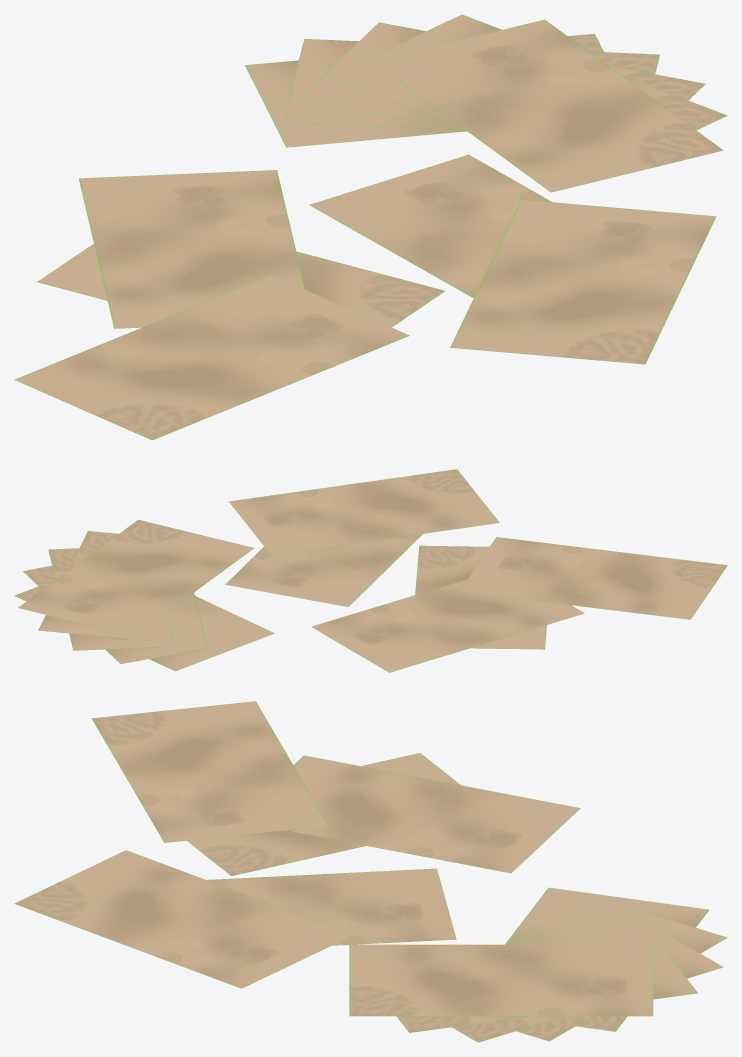
File: 3D_ENV_PAPER.FBX
The picture shows the model from 3 angles, top to bottom: view 1: azimuth 30°, elevation 25°; view 2: azimuth 150°, elevation 25°; view 3: azimuth 270°, elevation 25°; orthographic projection. The views are drawn at different scales.
Visible parts, largest first — view 1: paper; view 2: paper; view 3: paper.
Part boxes in pixels (x1,y1,x2,y2): paper: (14, 14, 727, 440); paper: (14, 469, 727, 672); paper: (14, 701, 727, 1042).
Size of the model in its own units: 65.6 by 0.369 by 58.04.
1 material, 1 textured.
